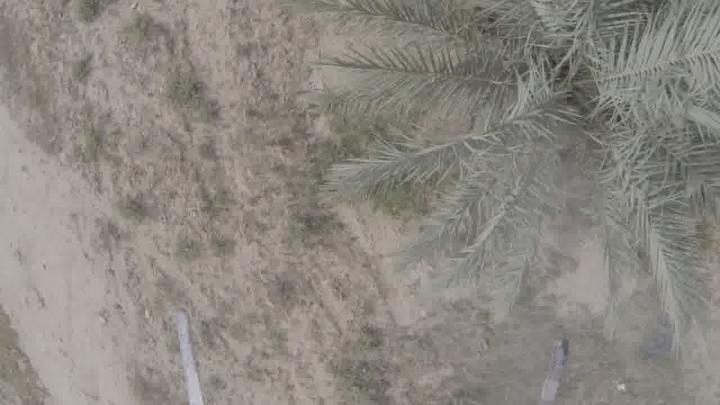Date-Palm-Crown: (430, 0, 720, 236)
